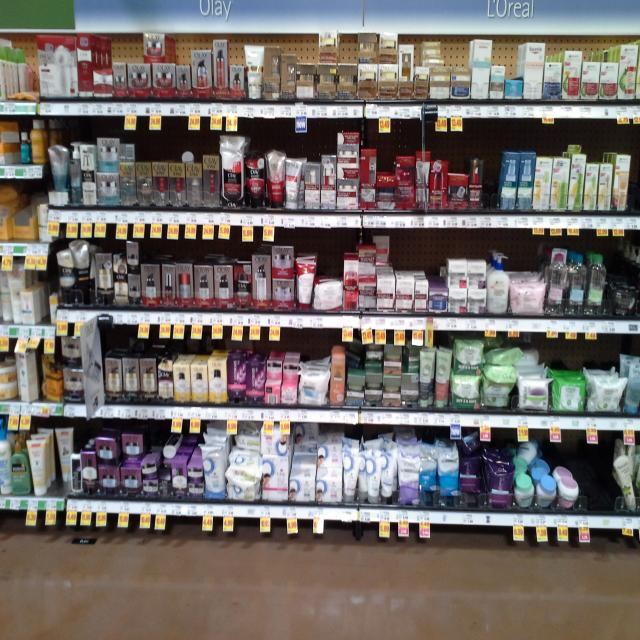empty: (578, 438, 611, 515), (482, 147, 505, 214)
